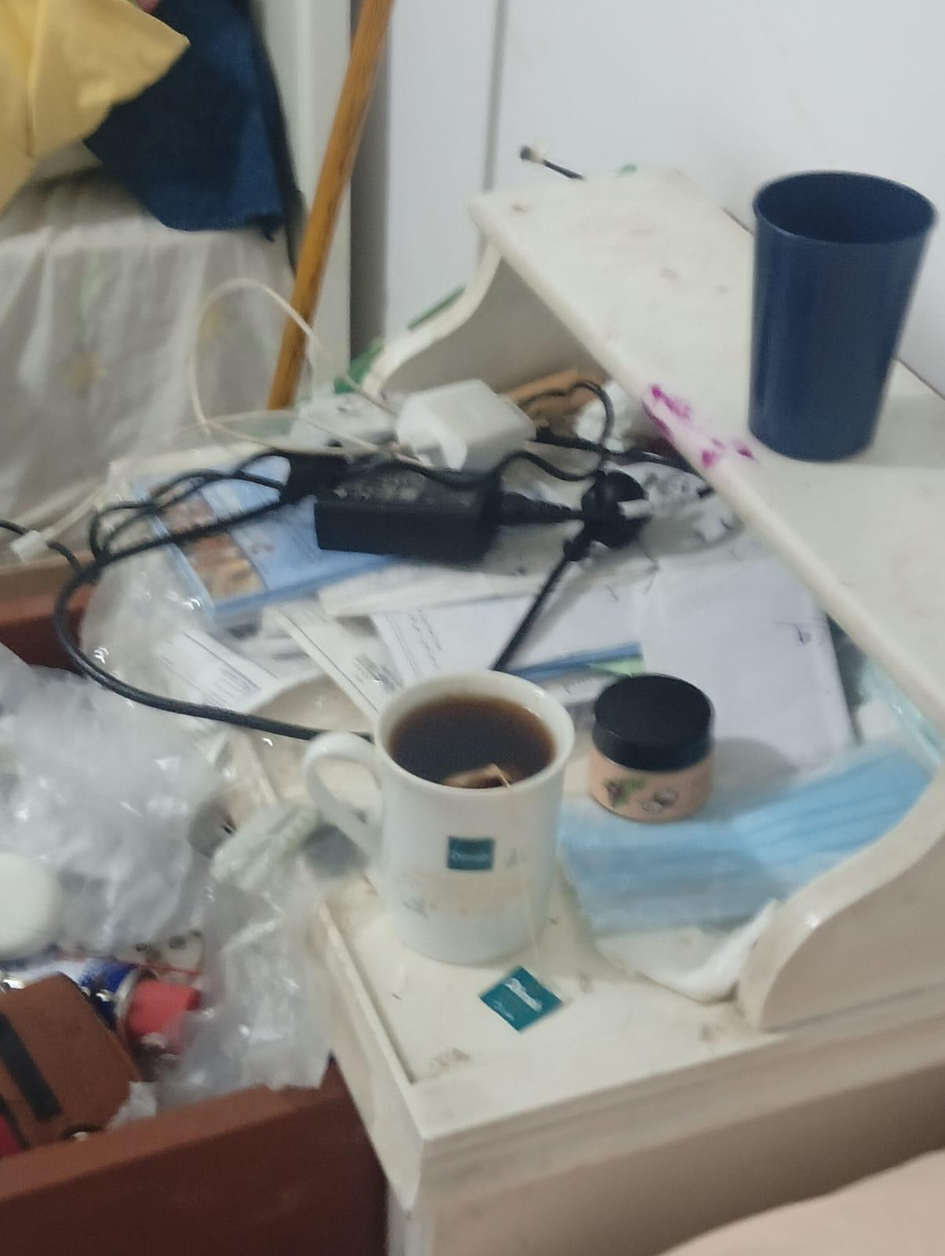cup: (303, 671, 575, 964), (749, 171, 936, 462), (374, 685, 574, 801), (753, 171, 937, 247)
